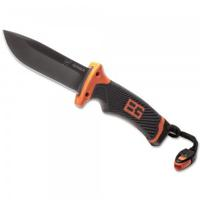knife: (1, 23, 168, 152)
